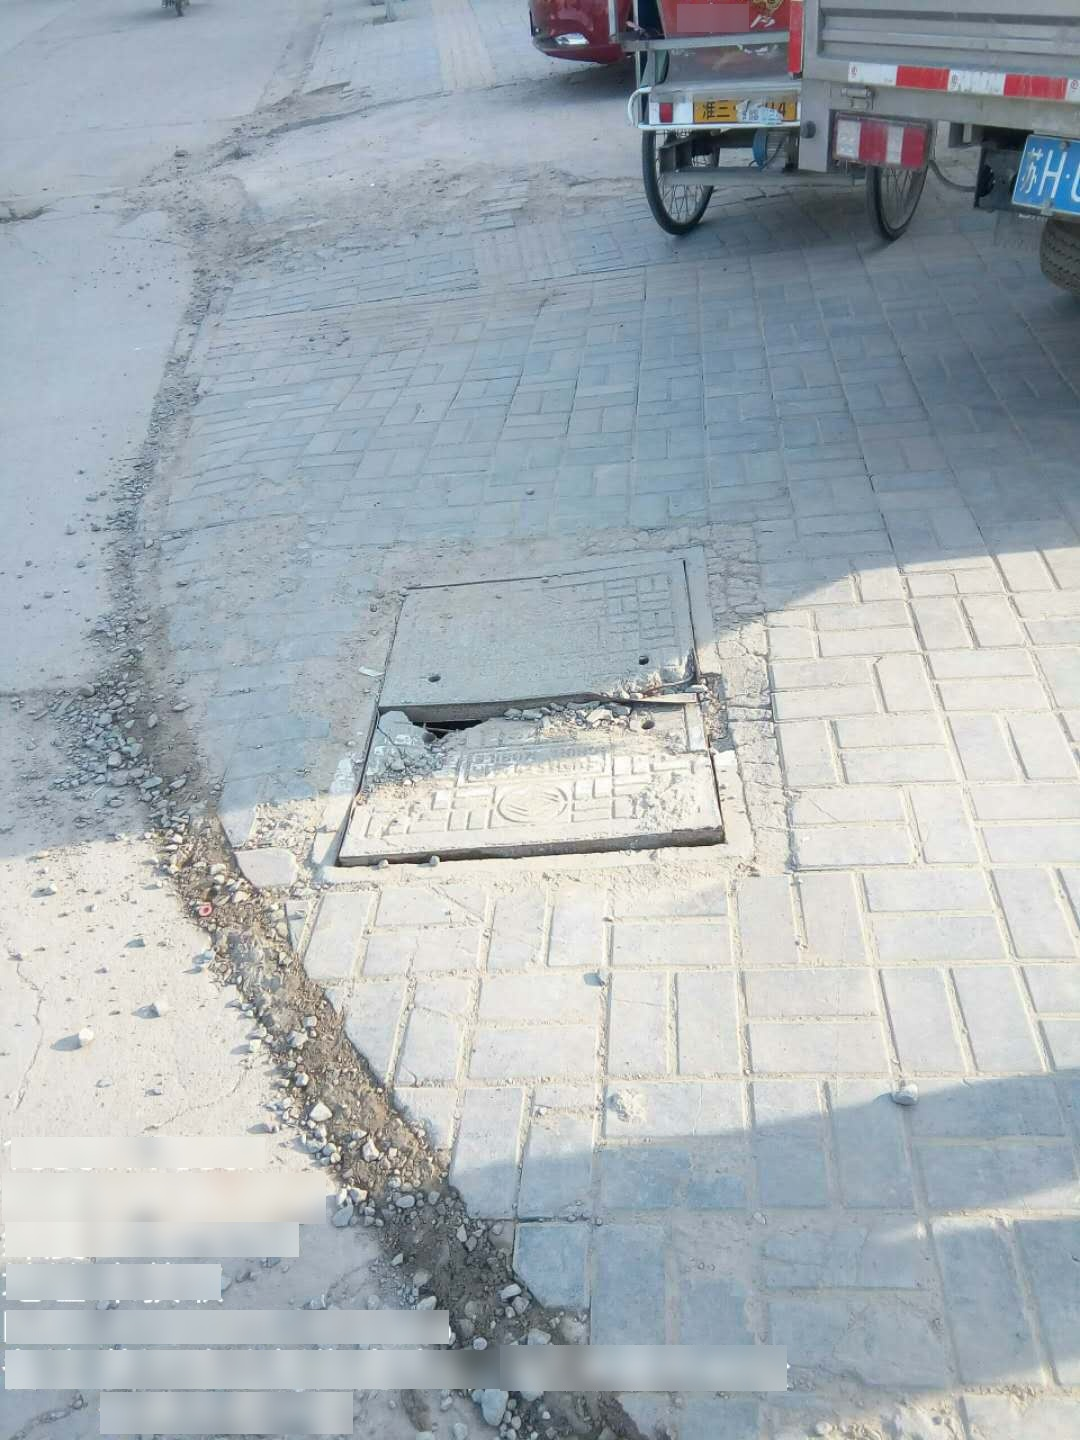well: (314, 551, 746, 881)
